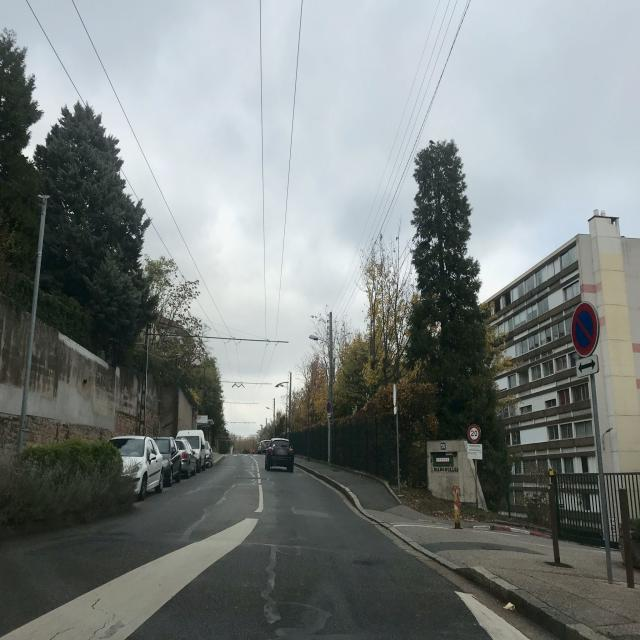car: (110, 435, 164, 500), (154, 436, 182, 485), (176, 429, 207, 471), (264, 437, 294, 472), (175, 439, 197, 478), (261, 439, 271, 454)
